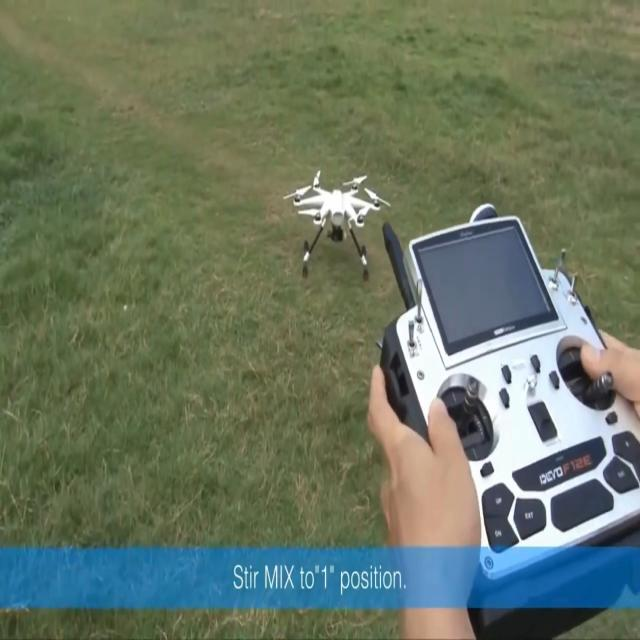drone: (283, 168, 391, 282)
